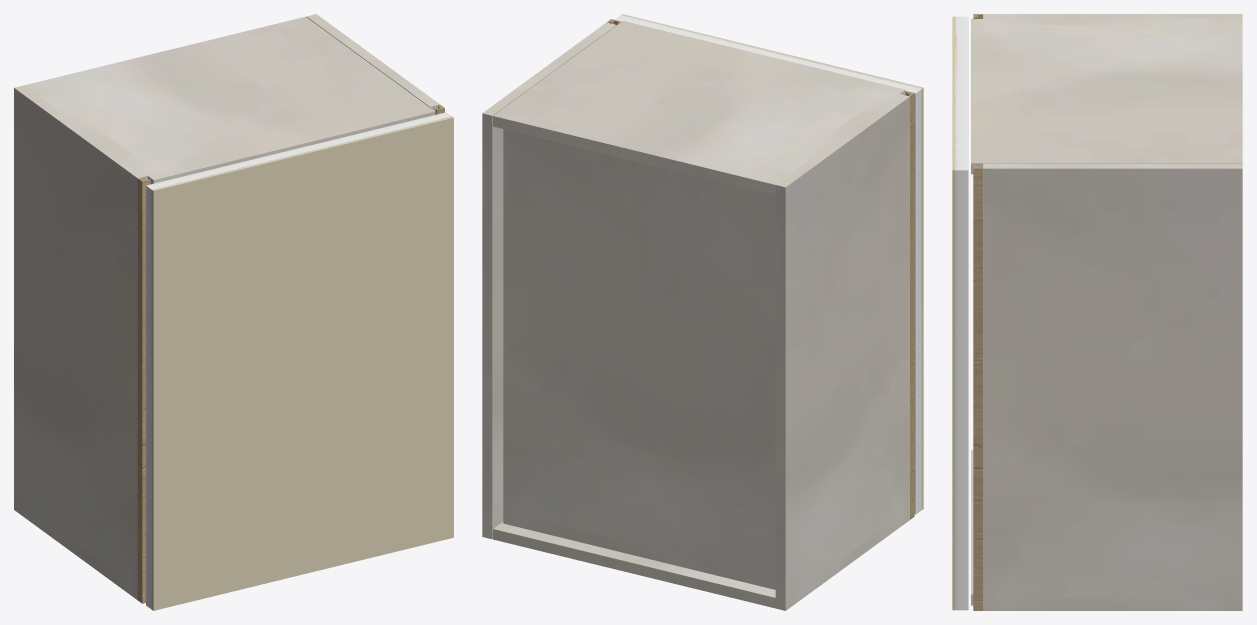
Rendered from WALL LOFT CABINET 1 SHELF(H600xW450xD336)WLC1S1HS_RH.glb.
3 renders of one model, left to right at view 1: azimuth 30°, elevation 25°; view 2: azimuth 150°, elevation 25°; view 3: azimuth 270°, elevation 25°, orthographic. The views are drawn at different scales.
Size of what is drawn, in the model's own units: 0.45 by 0.6 by 0.3569.
Materials: 6 (2 with a texture image).
